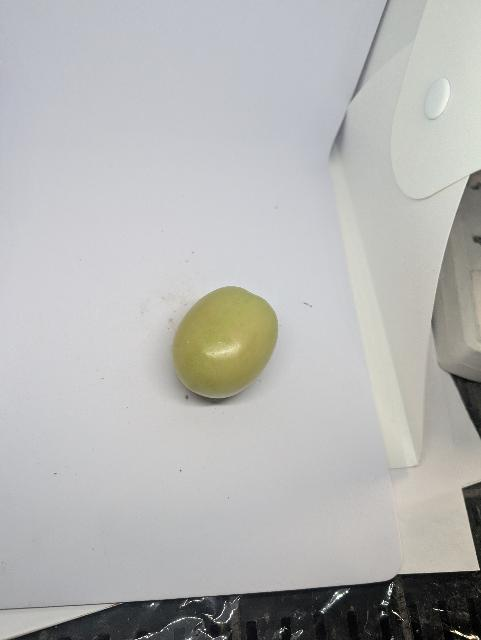breaker: (170, 284, 281, 402)
